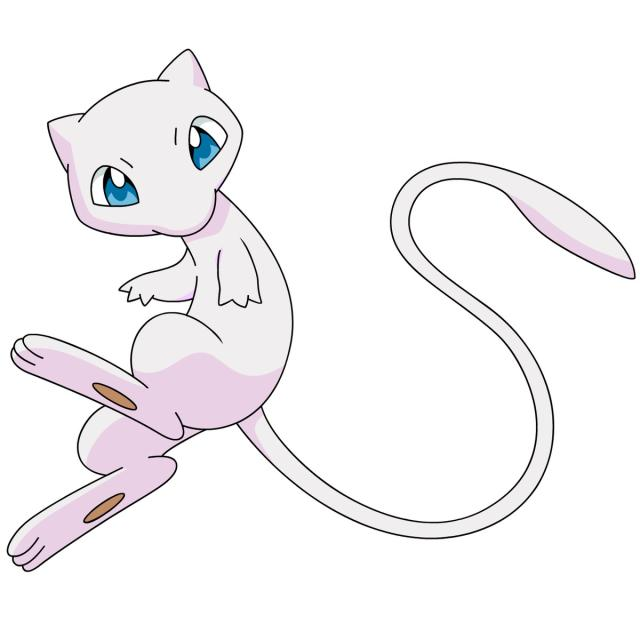Mew: (95, 43, 289, 412)
